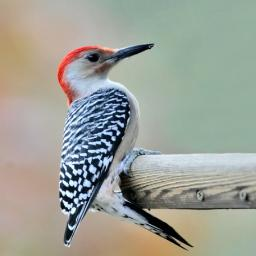Woodpecker: (44, 34, 204, 256)
